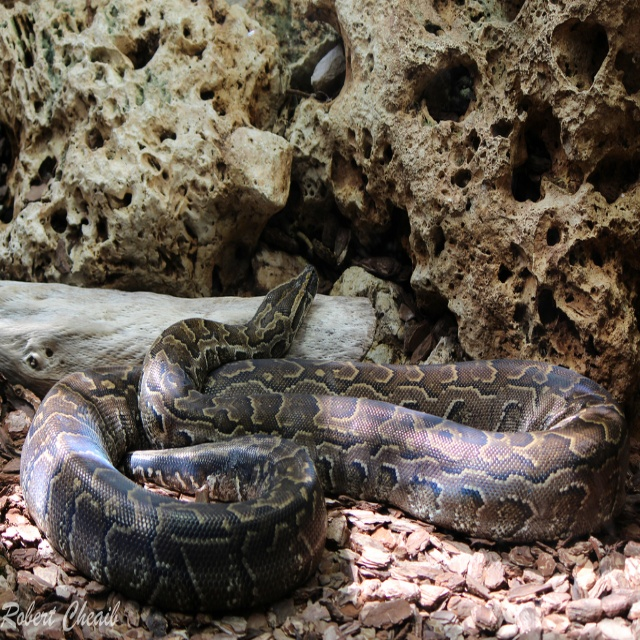Snake: (20, 264, 630, 613)
